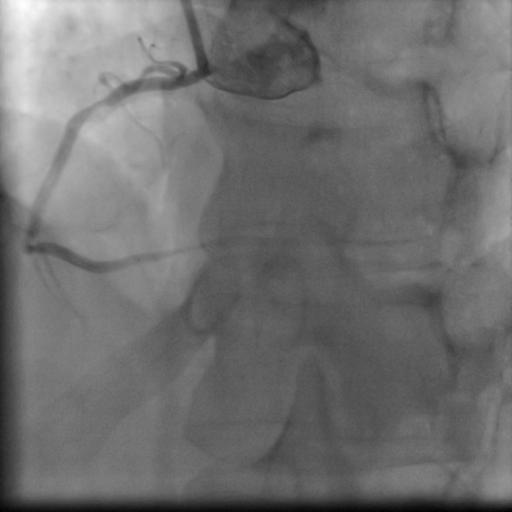Stenosis: (83, 87, 111, 119)
